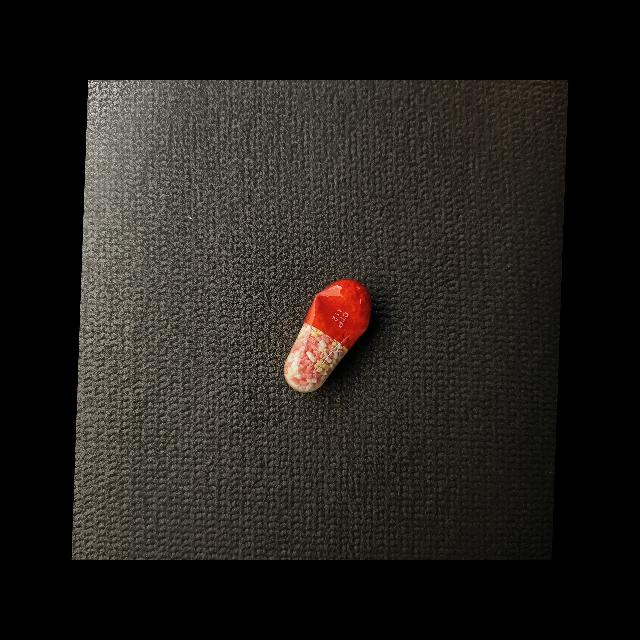Defective Capsule: (284, 279, 372, 393)
